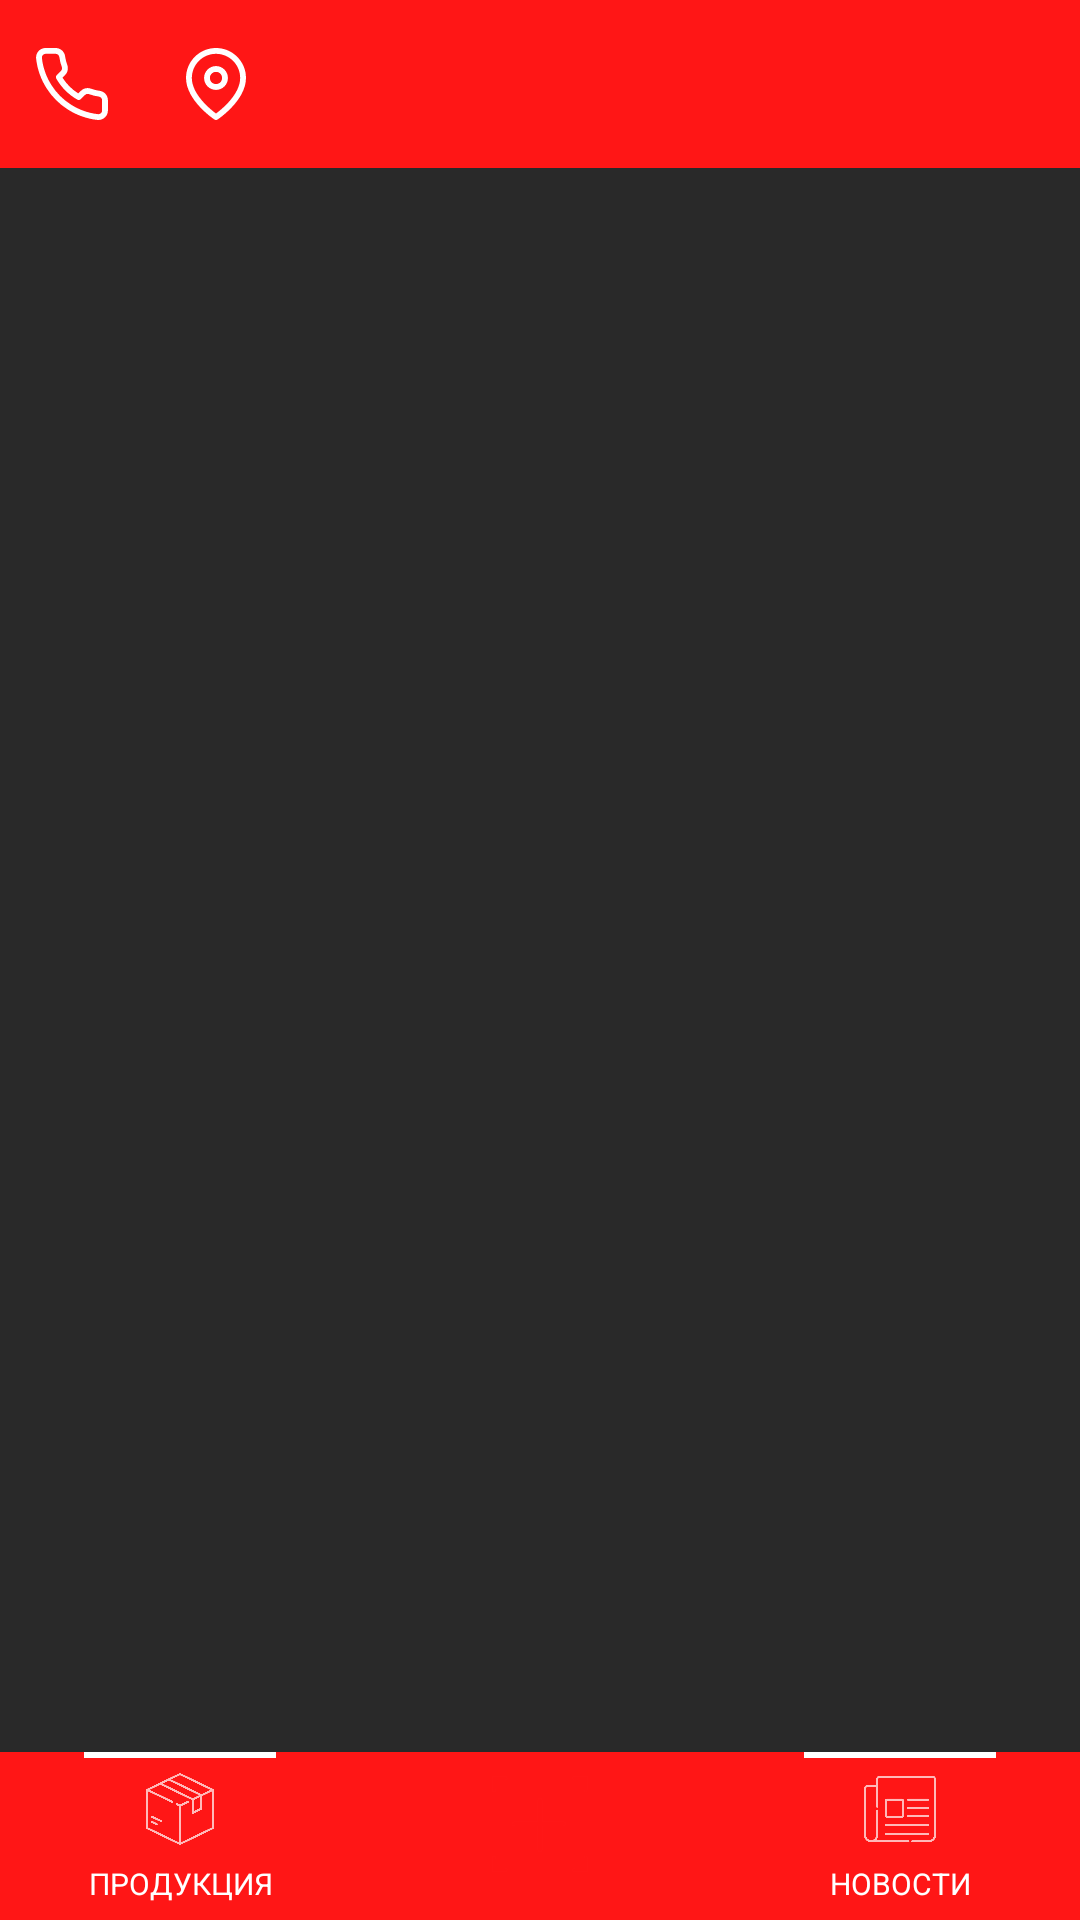

Screen size 1080w x 1920h. Icon name, then its box in pixels as (x1, y1, x2, y2):
locate: (186, 48, 246, 120)
phone: (36, 48, 108, 120)
